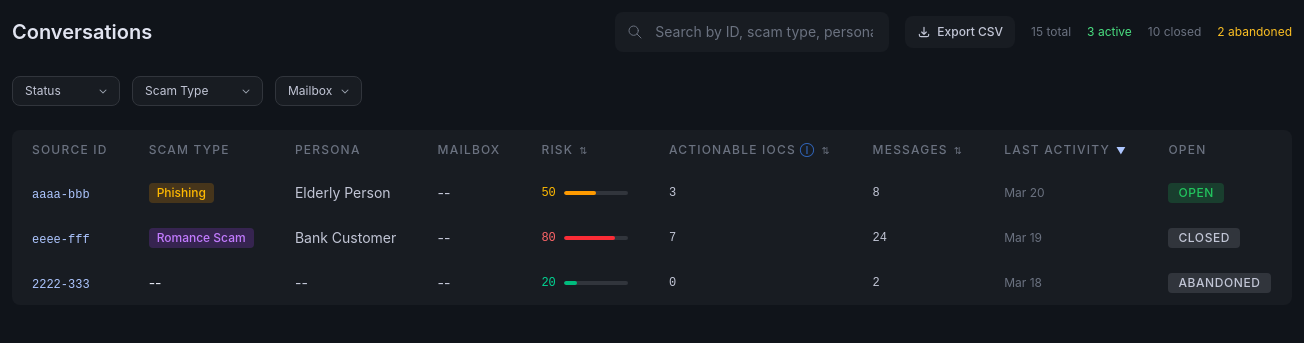
Test: Conversations page — coverage gaps › shows empty state when no conversations match filters
The image size is (1304, 343).
Check: the link "aaaa-bbb" is shown, box x1=32 y1=188 x2=90 y2=202
Type "zzzznonexistent" into the field named "Search conversations" at (752, 32), box x1=615 y1=12 x2=889 y2=52
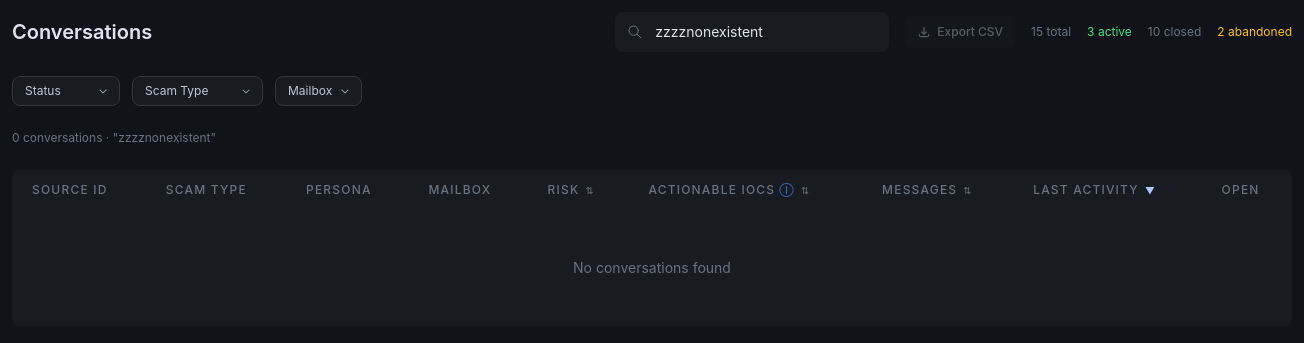
Check: the text "No conversations found" is shown, box x1=12 y1=210 x2=1292 y2=326
